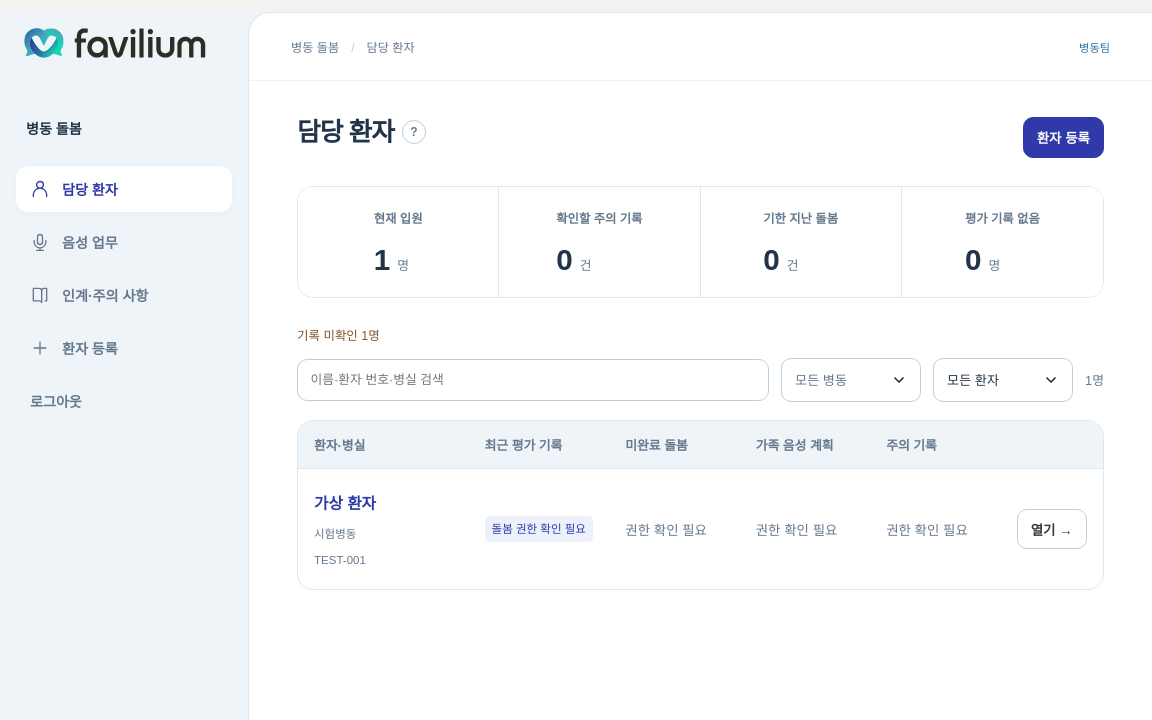
Test: 화면 설명은 기본적으로 숨기고 미확인 기록 상태는 유지한다
Check: the text "기록 미확인 1명" is shown, box [297,328,380,342]
Click the button named "돌봄 현황 도움말": (414, 132) [402,120,426,144]
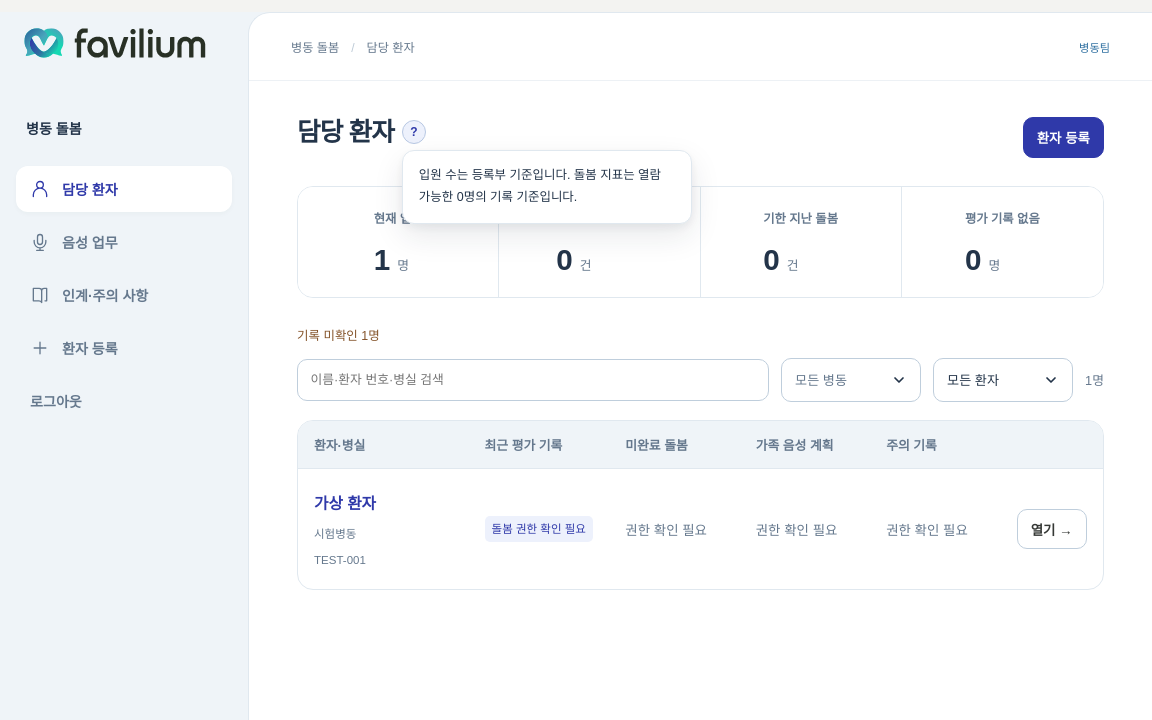
Check: the tooltip shows "돌봄 지표는 열람 가능한 0명의 기록 기준입니다.", box [402,150,692,224]
